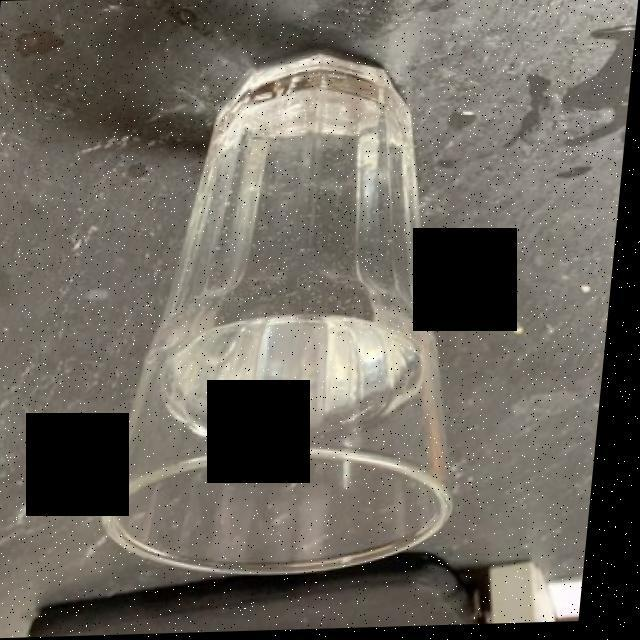water: (170, 74, 434, 422)
